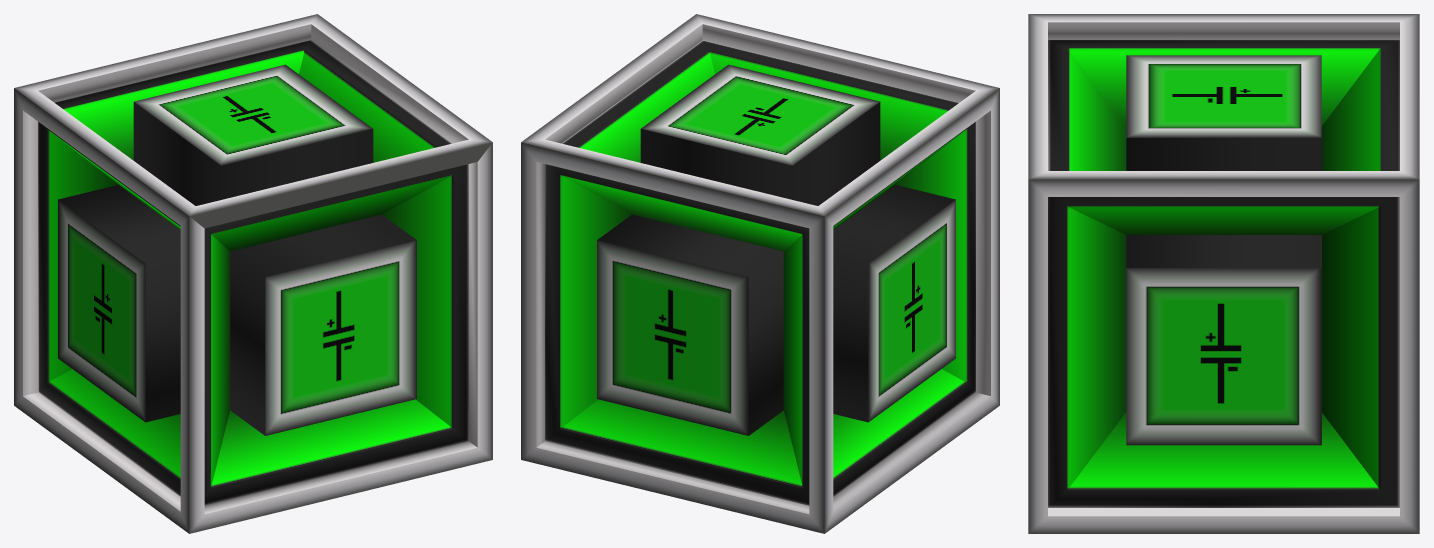
File: almost_infinite_capacitor.obj
3 views of the same model, side by side, from view 1: azimuth 30°, elevation 25°; view 2: azimuth 150°, elevation 25°; view 3: azimuth 270°, elevation 25° (orthographic). The views are drawn at different scales.
Visible parts, largest first — view 1: Cube.002; view 2: Cube.002; view 3: Cube.002.
Part boxes in pixels (box(x1,y1,x2,y2)): Cube.002: box(14, 14, 492, 533); Cube.002: box(521, 14, 999, 533); Cube.002: box(1028, 14, 1419, 533).
Size of the model in its own units: 1 by 1 by 1.
